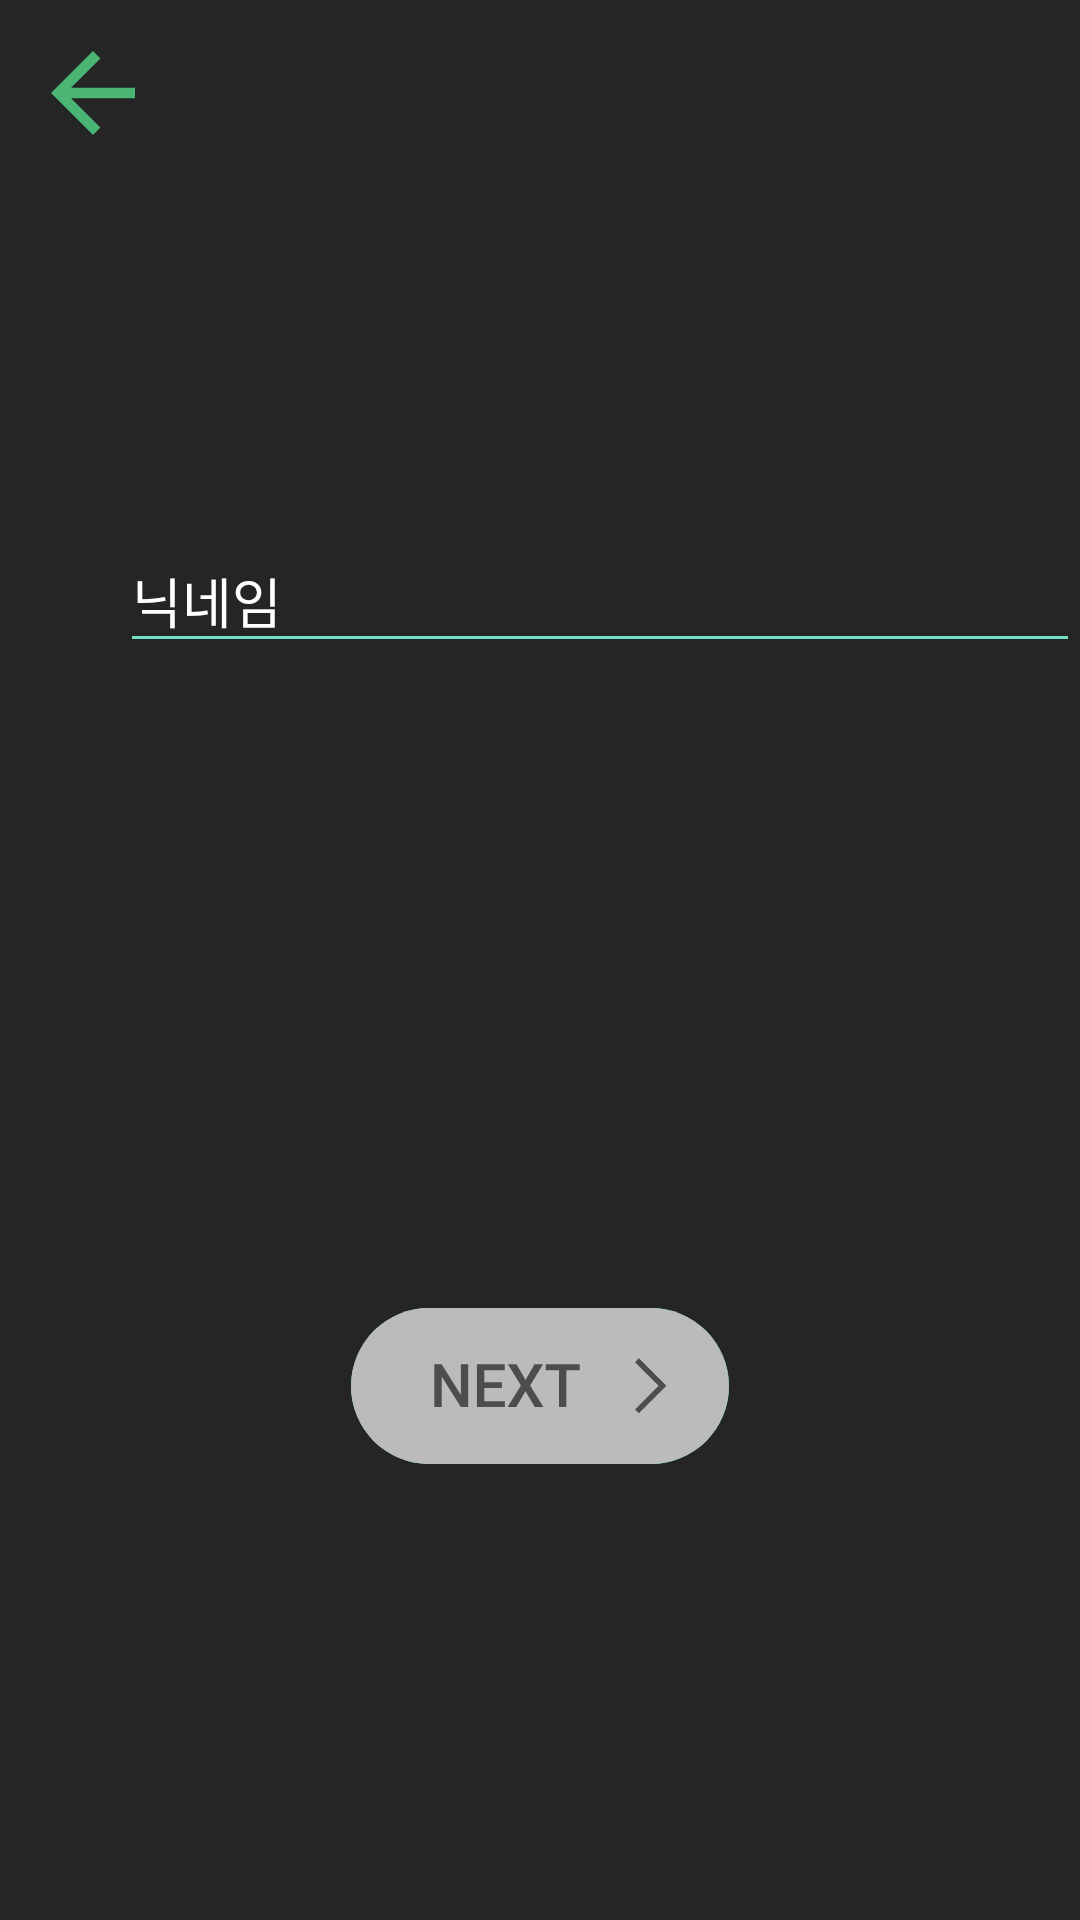

Icons on this 1080px x 1920px Android screen, each with the point to tap as (x=x, y=y):
back step arrow: (x=93, y=93)
